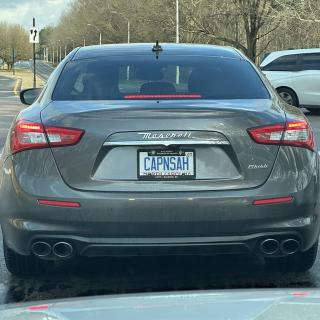license: (138, 149, 197, 181)
